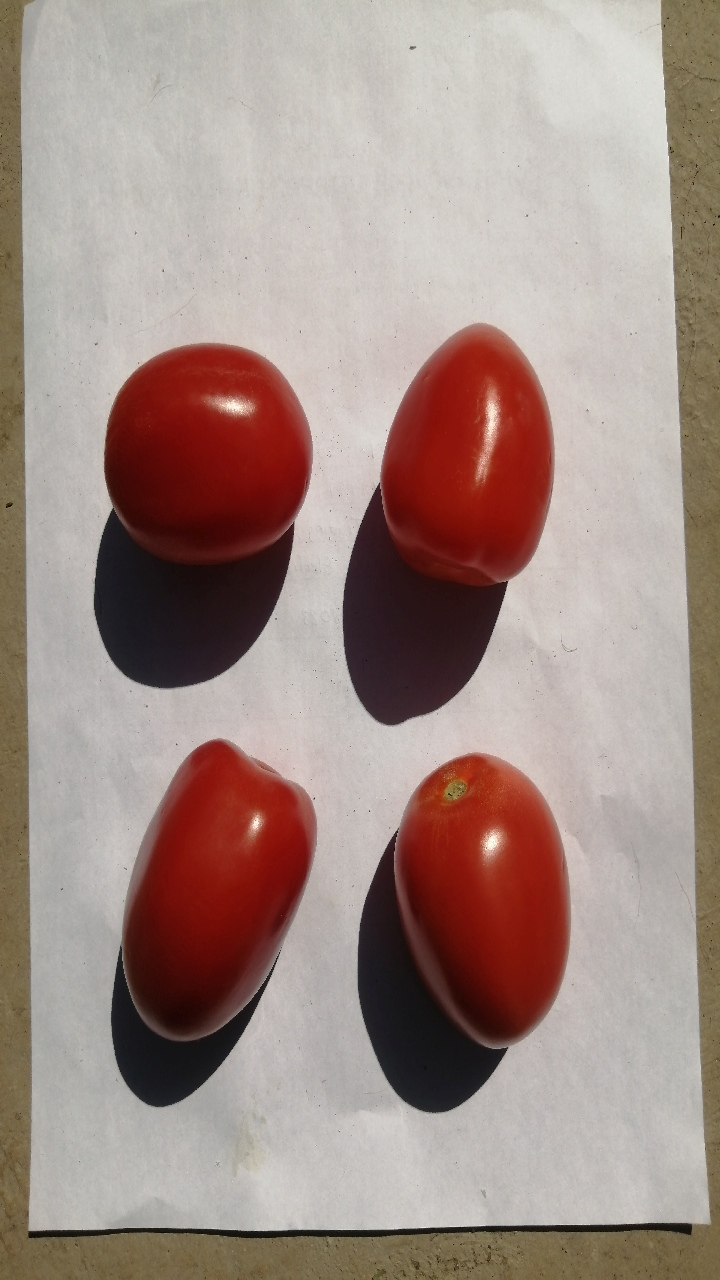tomateRojo: (91, 719, 329, 1079), (369, 748, 598, 1069), (351, 300, 572, 602), (100, 320, 326, 580)
